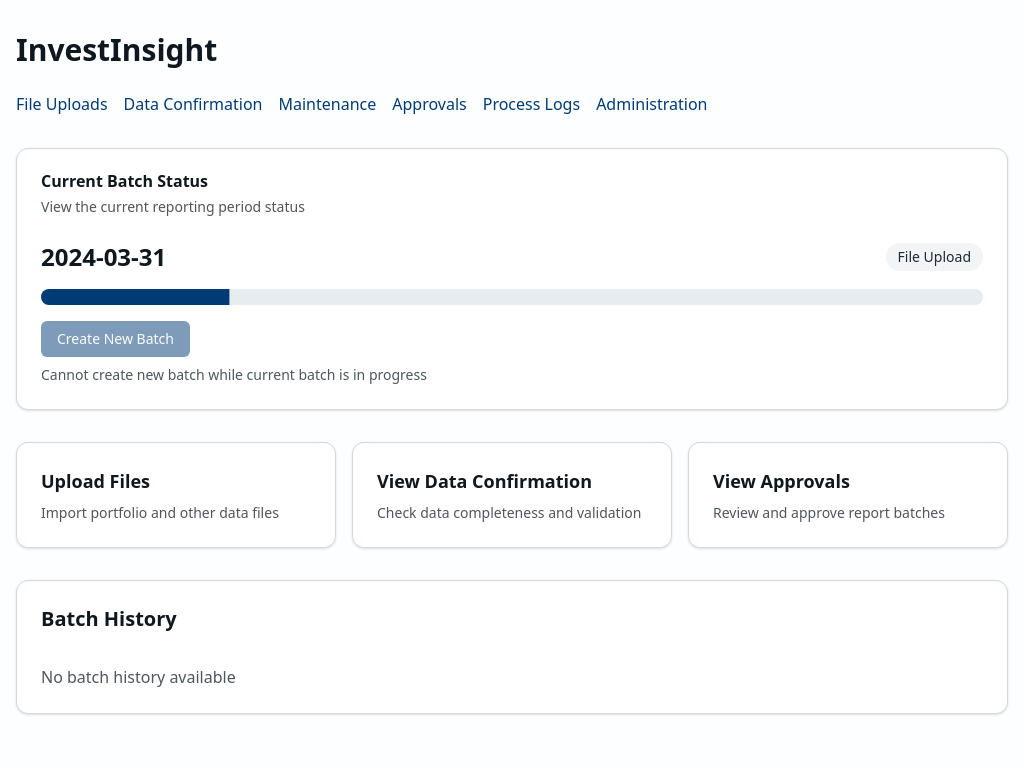
Epic 1, Story 4: Start Page - Navigation Links › Approvals Submenu › shows submenu with approval level links when Approvals is clicked
This screenshot has width=1024, height=768.
What coordinates should you click on to do the following:
click the link "Approvals"
I would click on:
 (430, 104)
Its box is [392,93,467,115].
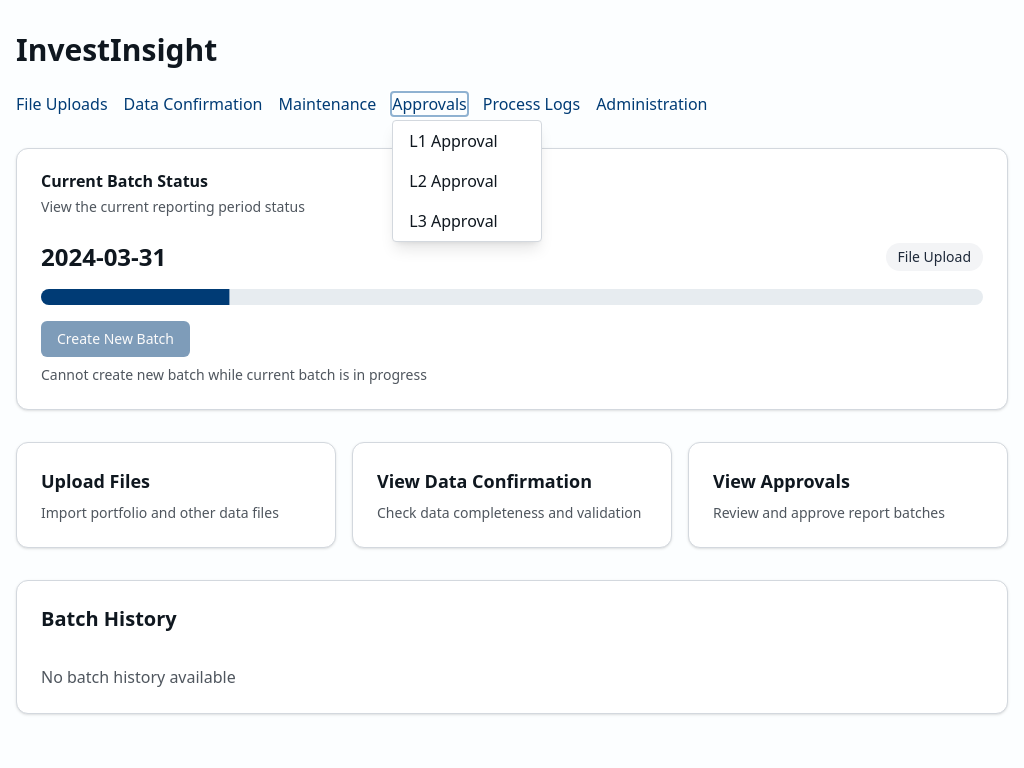
Result: the link "L1 Approval" is shown at [409,130,498,152]
Result: the link "L2 Approval" is shown at [409,170,498,192]
Result: the link "L3 Approval" is shown at [409,210,498,232]
